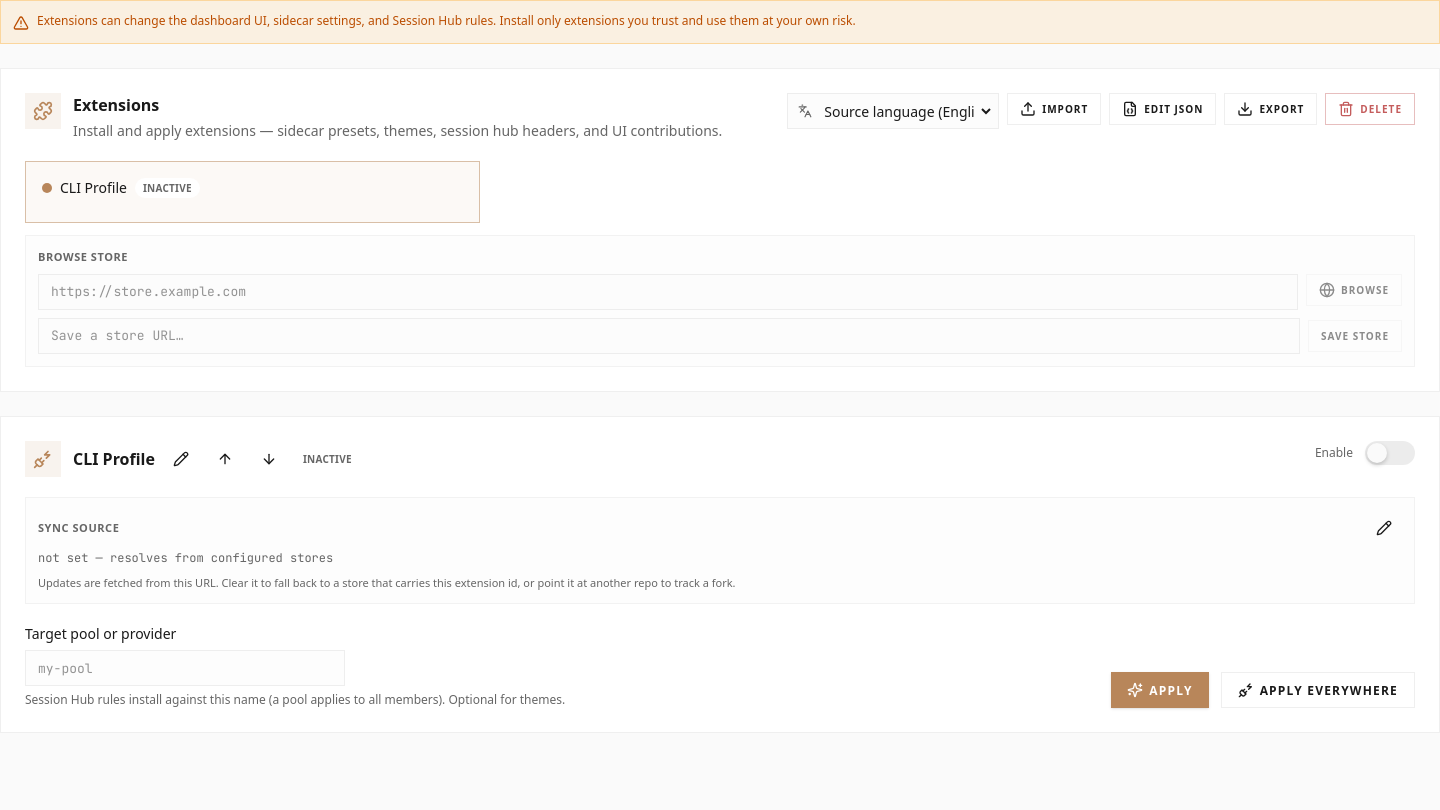
ExtensionsTab sync source editing › saves a new source URL and clears it back to store resolution
Expected: the text "not set — resolves from configured stores" is shown, x1=38 y1=550 x2=333 y2=566
# Edit → save an explicit source.
Click the button named "Edit sync source". click: (1384, 528)
box: x1=1366 y1=510 x2=1402 y2=546
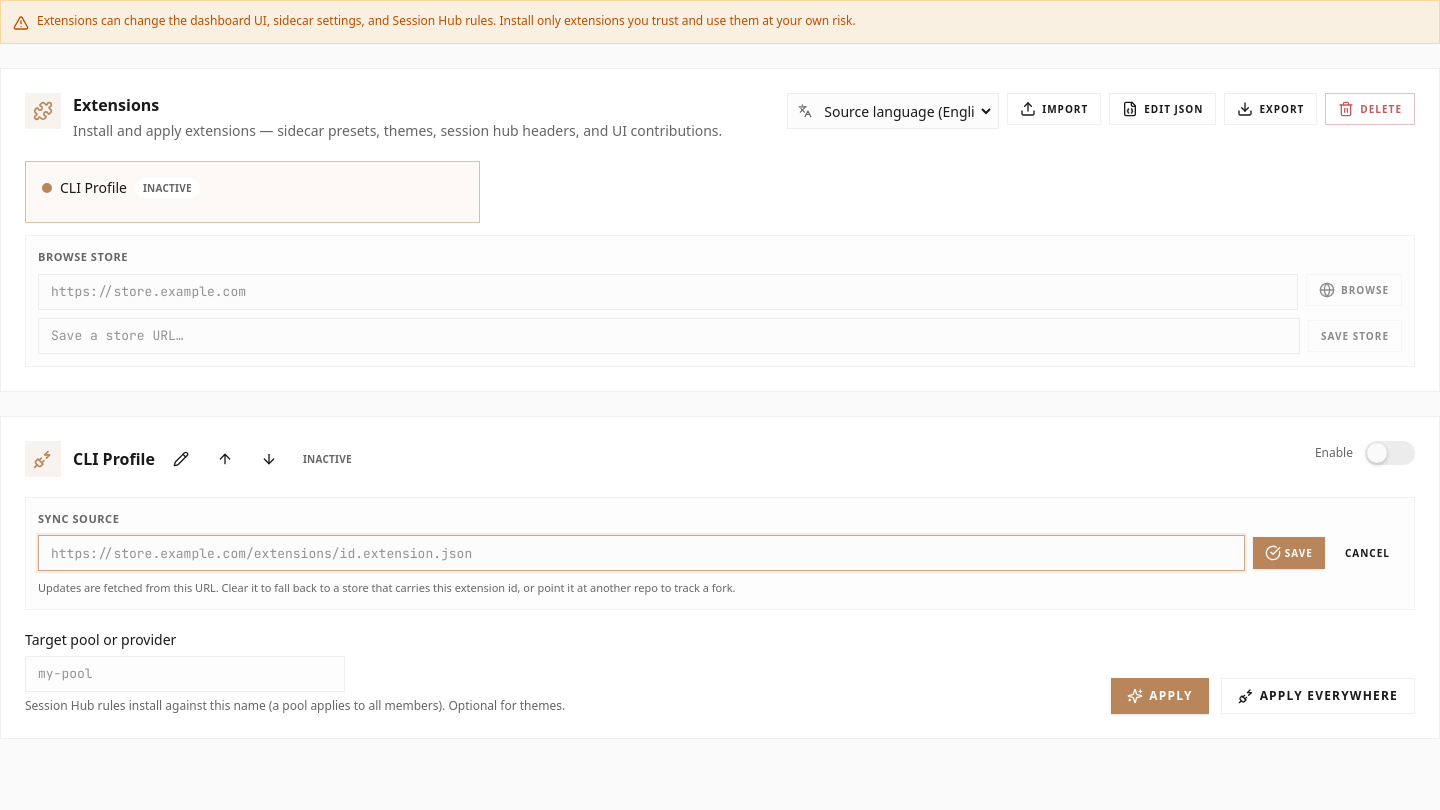
Type "https://fork.example/ext.json" into the field named "Sync source URL". click: (641, 553)
box: x1=38 y1=535 x2=1245 y2=571
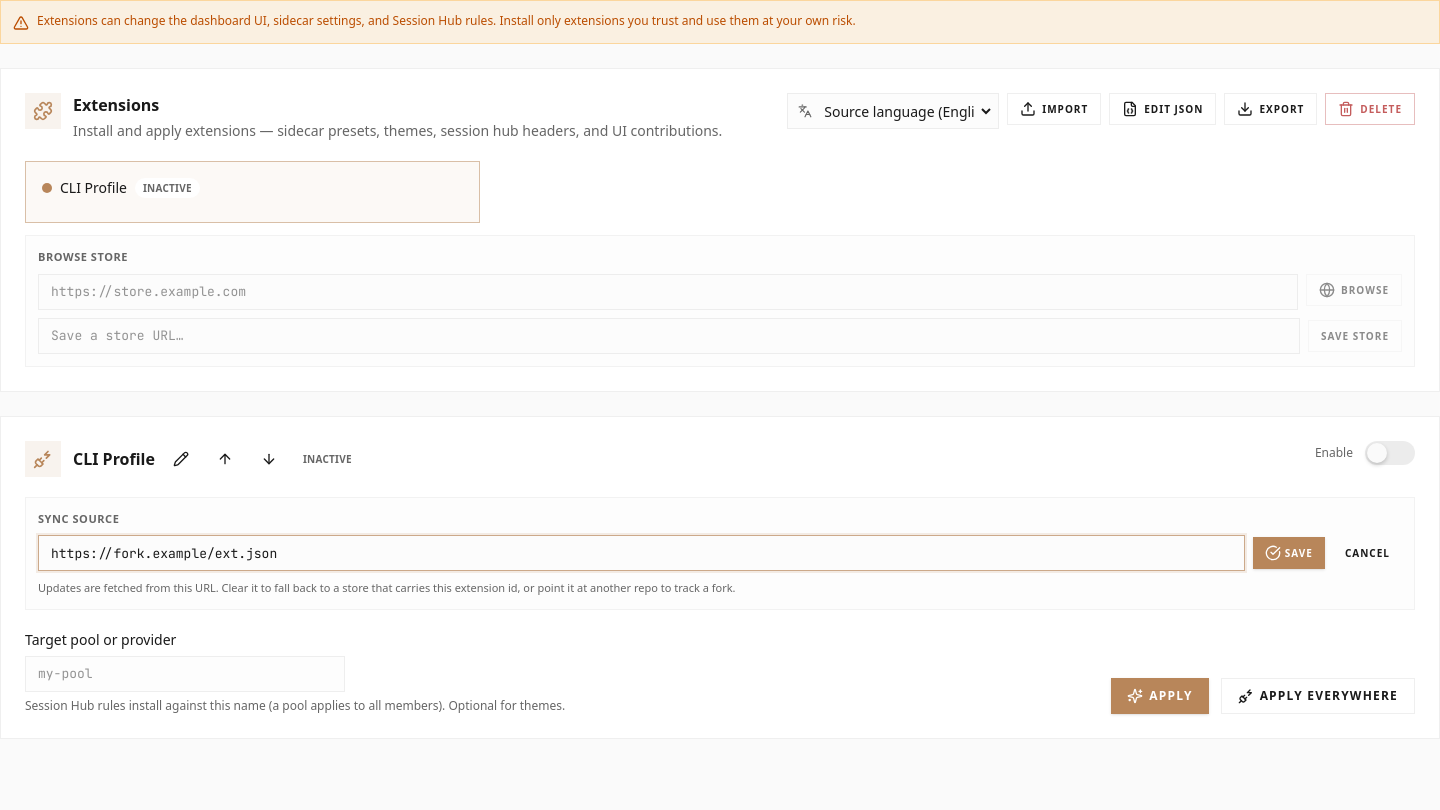
Click the button "Save". click: (1289, 553)
box: x1=1253 y1=537 x2=1325 y2=569
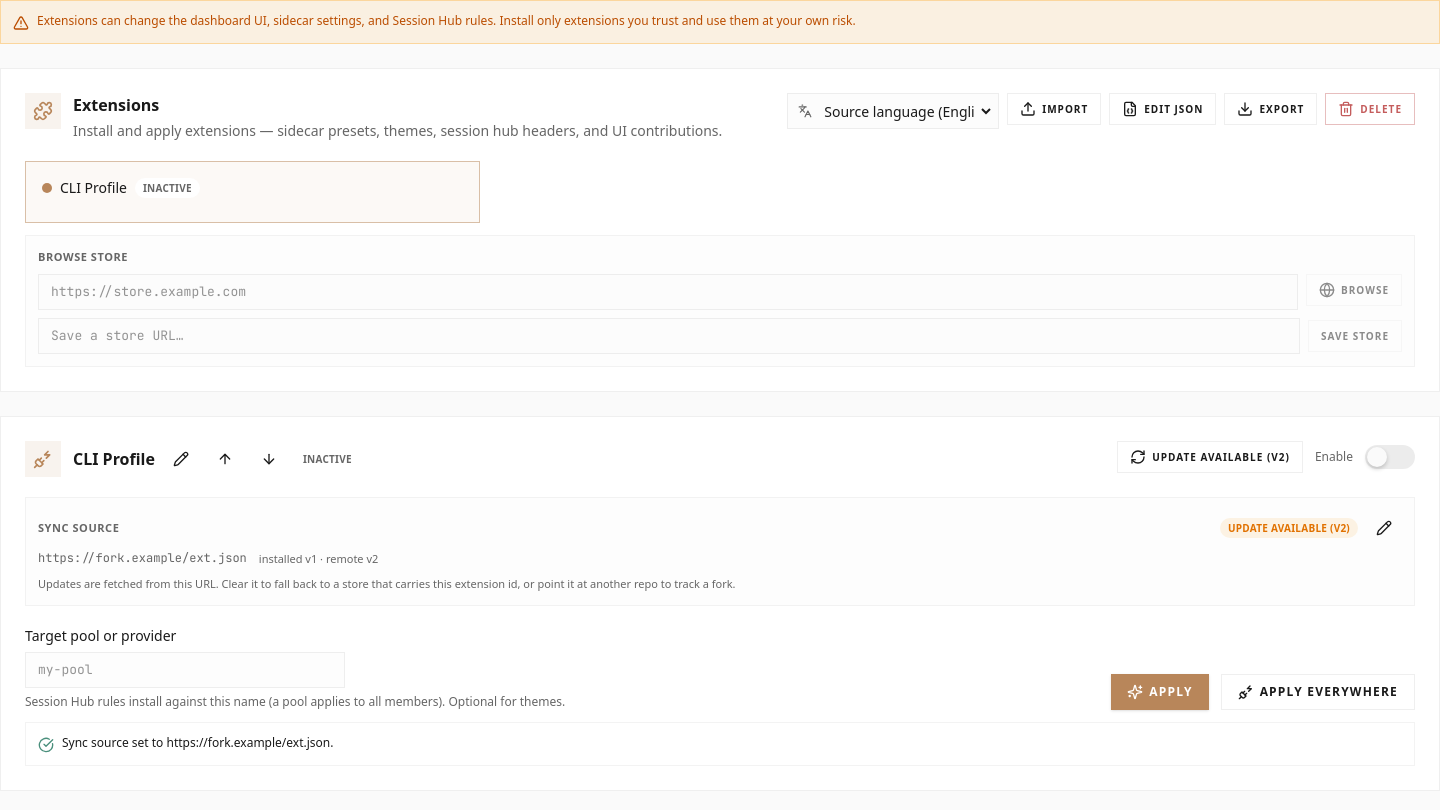
Now the text "https://fork.example/ext.json" is shown, box x1=38 y1=550 x2=247 y2=566
# Clear it → falls back to configured stores again.
Click the button named "Edit sync source". click: (1384, 528)
box: x1=1366 y1=510 x2=1402 y2=546
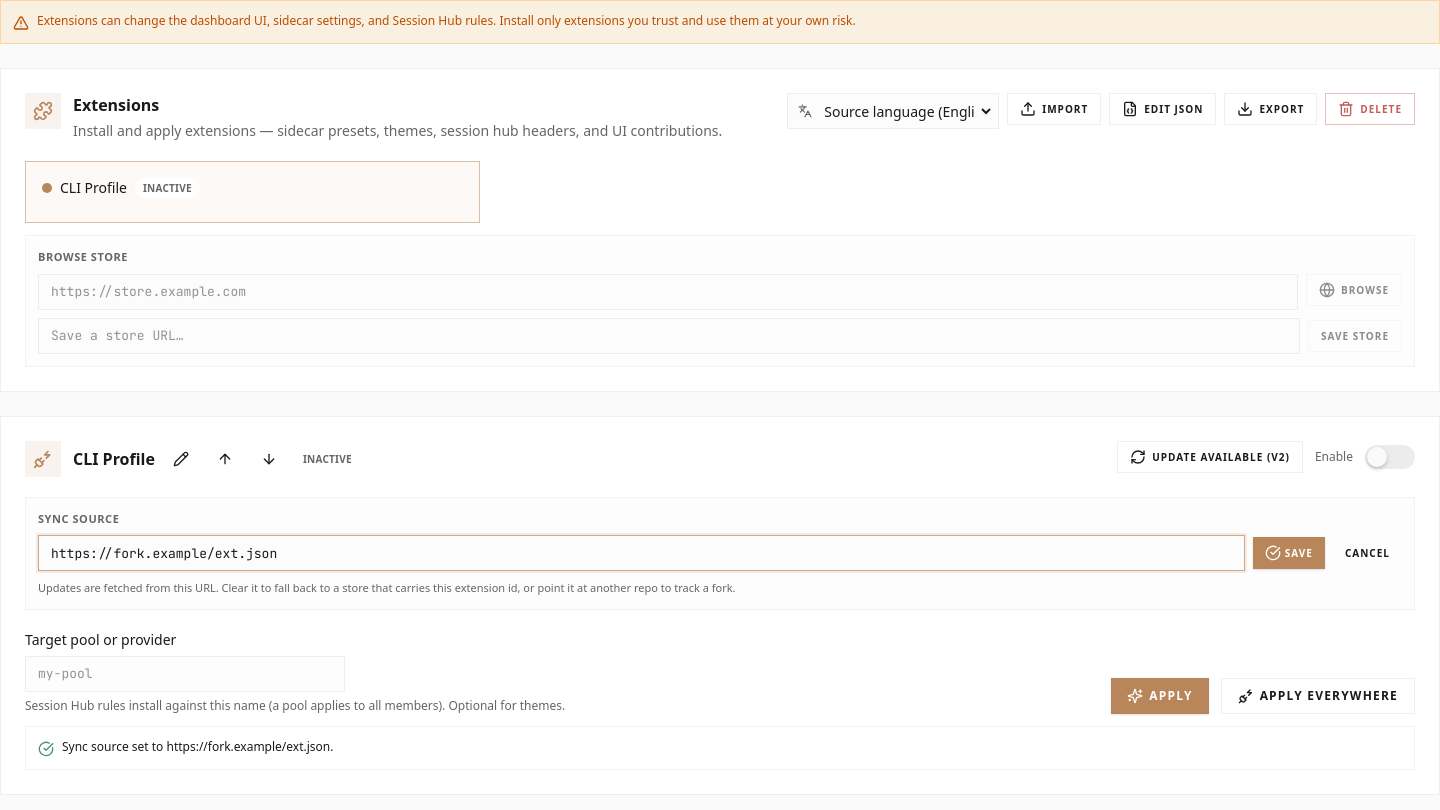
Clear the field named "Sync source URL". click: (641, 553)
box: x1=38 y1=535 x2=1245 y2=571
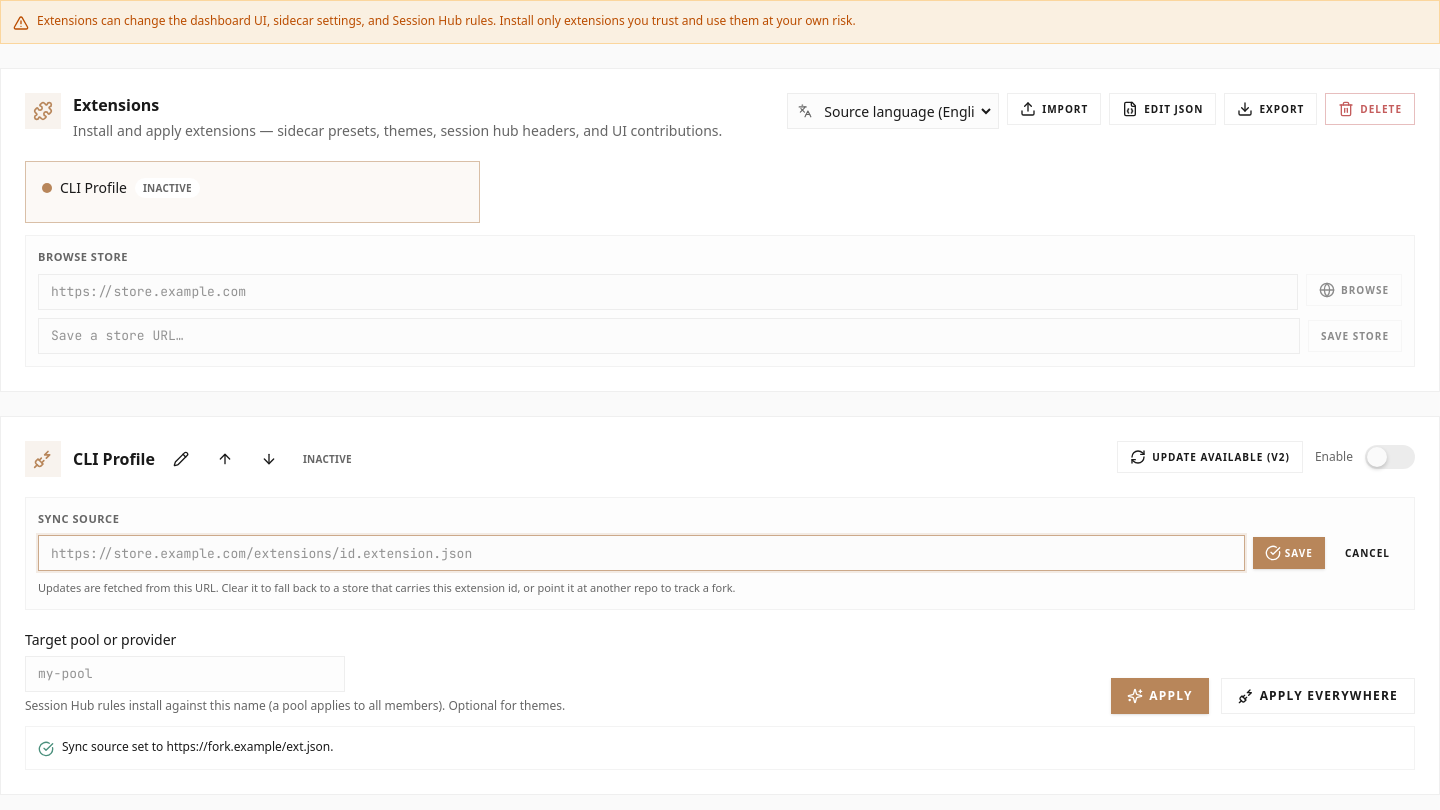
Click the button "Save". click: (1289, 553)
box: x1=1253 y1=537 x2=1325 y2=569
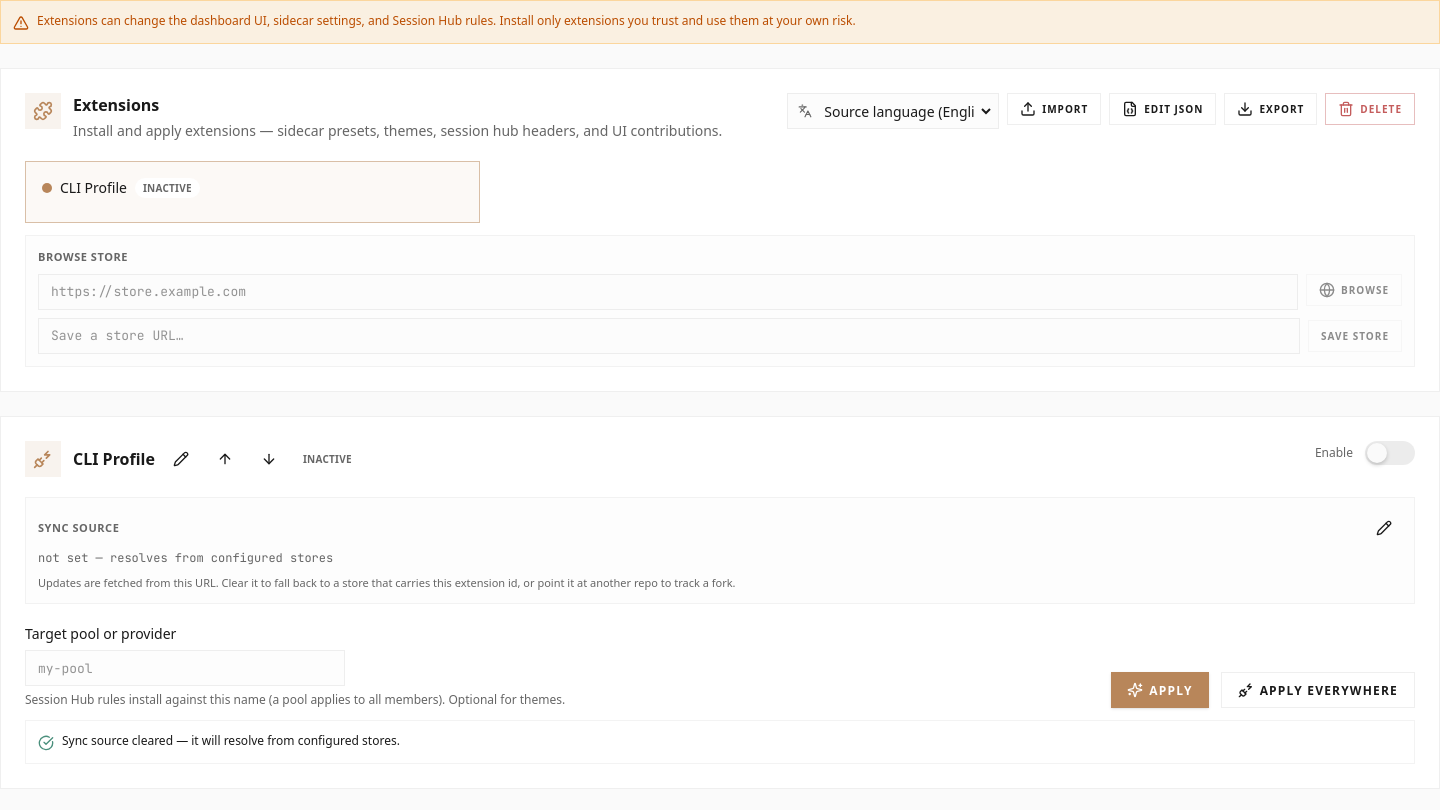
Now the text "not set — resolves from configured stores" is shown, box x1=38 y1=550 x2=333 y2=566
